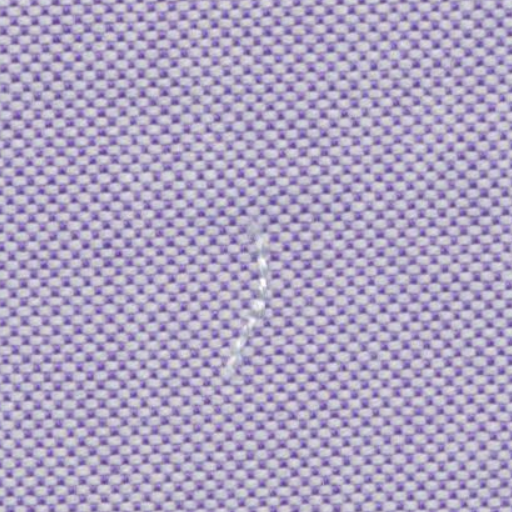DuanSha: (196, 230, 293, 378)
